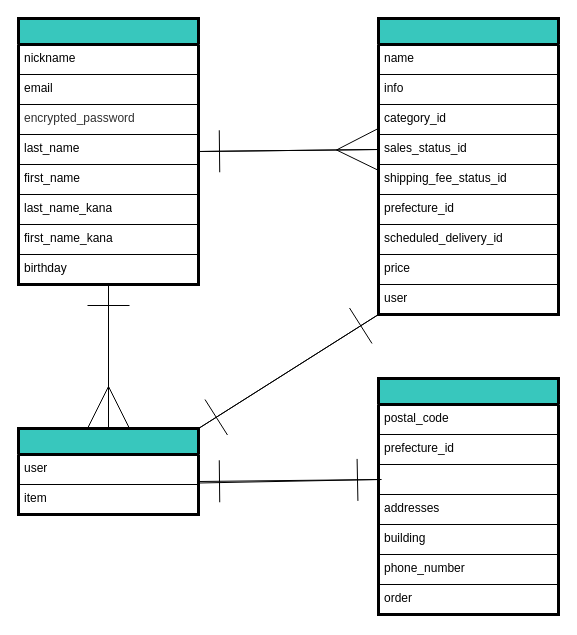
The diagram is 577 pixels wide and 635 high, and some of its shapes have lost their labels. Here are the shapes that lost their labels. From the top down, the box of each, then its label:
(16, 16, 200, 286): Users
(376, 16, 560, 316): Items
(16, 426, 200, 516): Orders
(378, 464, 558, 494): city
(376, 376, 560, 616): Adresss
